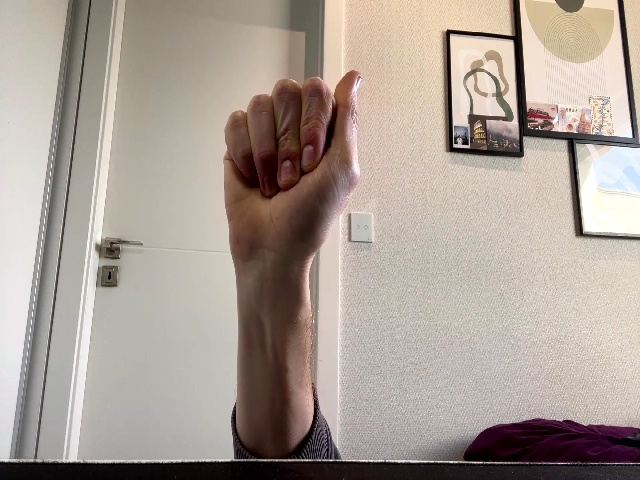A: (224, 70, 363, 262)
